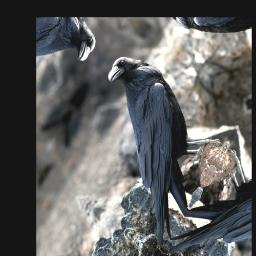Crow: (47, 44, 239, 253)
